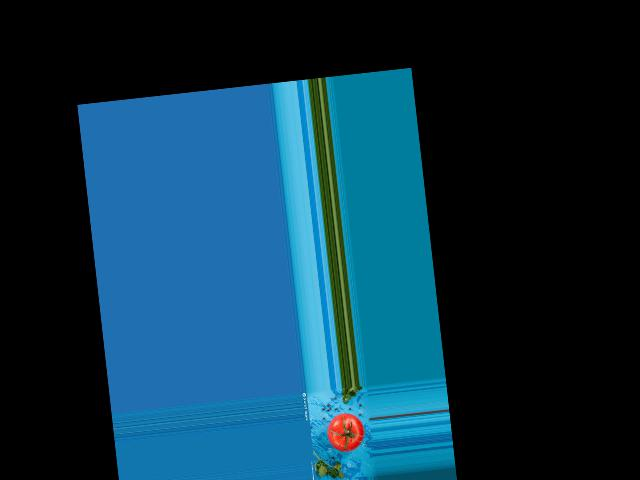tomato: (325, 411, 365, 454)
